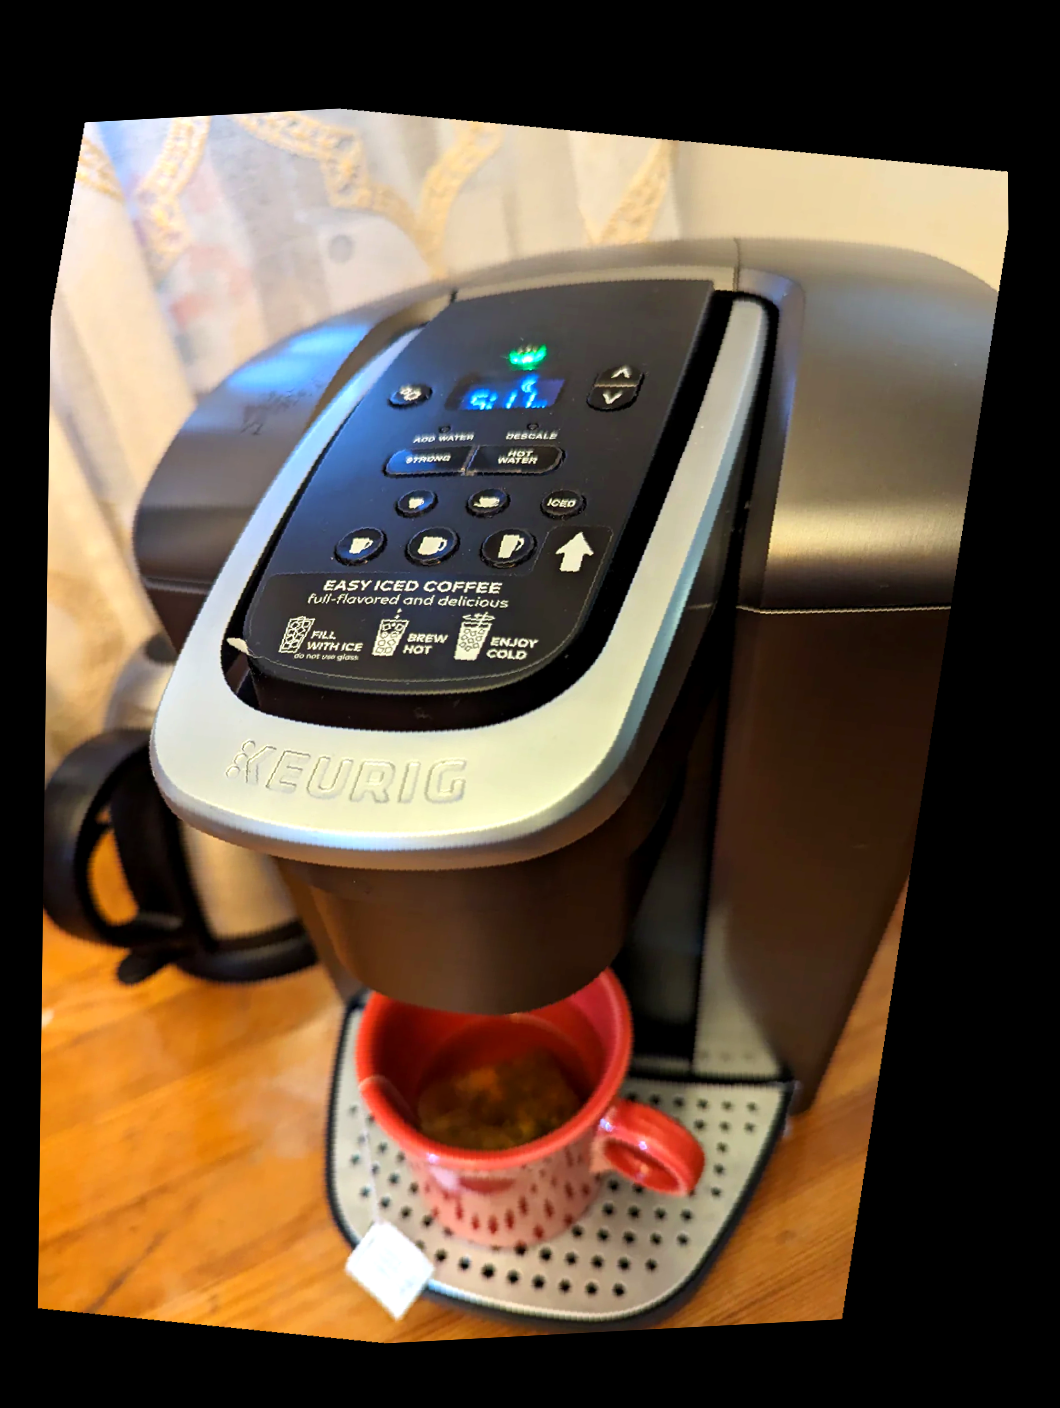10oz: (403, 523, 460, 565)
12oz: (477, 526, 542, 569)
4oz: (391, 485, 438, 518)
6oz: (463, 485, 511, 519)
8oz: (332, 524, 389, 567)
add_water: (405, 417, 481, 446)
coffee_handle: (128, 772, 433, 900)
descale: (493, 416, 570, 446)
hot: (478, 446, 554, 476)
iced: (536, 481, 590, 523)
power: (503, 338, 554, 372)
strong: (391, 447, 467, 476)
